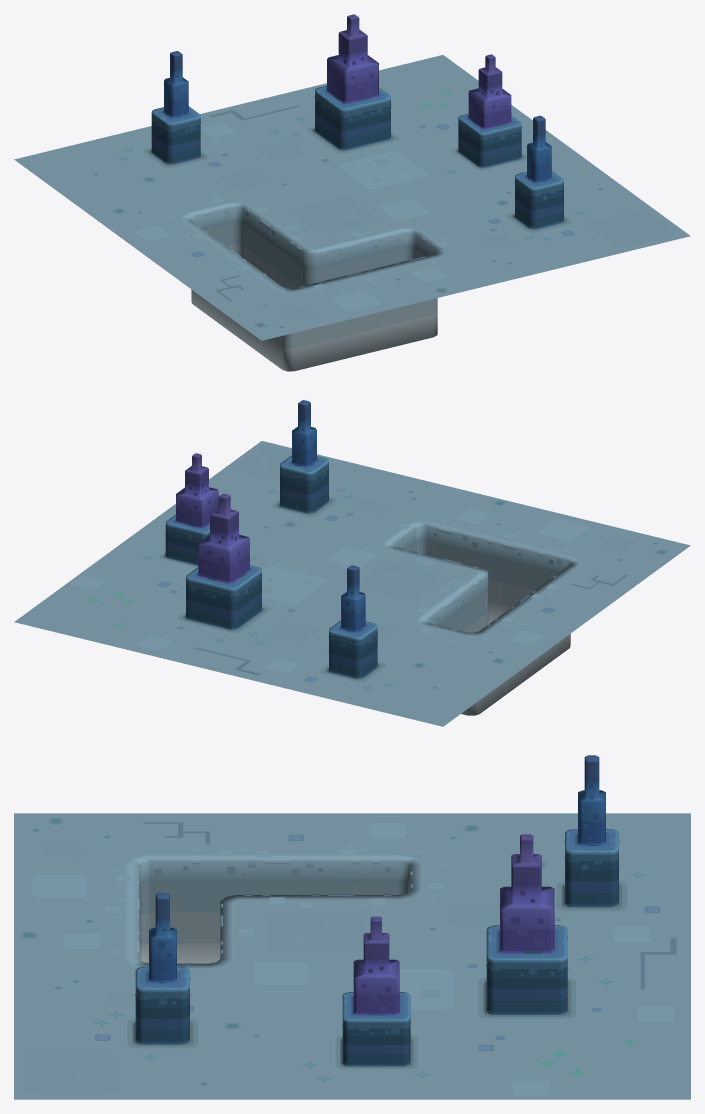
Rendered from C_mountain2_01.fbx.
3 views of the same model, one above another, from view 1: azimuth 30°, elevation 25°; view 2: azimuth 150°, elevation 25°; view 3: azimuth 270°, elevation 25° (orthographic). The views are drawn at different scales.
Parts seen in each view (by area): view 1: C_mountain2_01; view 2: C_mountain2_01; view 3: C_mountain2_01.
Part boxes in pixels (box(x1,y1,x2,y2)): C_mountain2_01: box(14, 14, 690, 371); C_mountain2_01: box(14, 400, 690, 726); C_mountain2_01: box(14, 755, 690, 1099).
Bounding box in the file's own units: 50 × 22.52 × 50.
